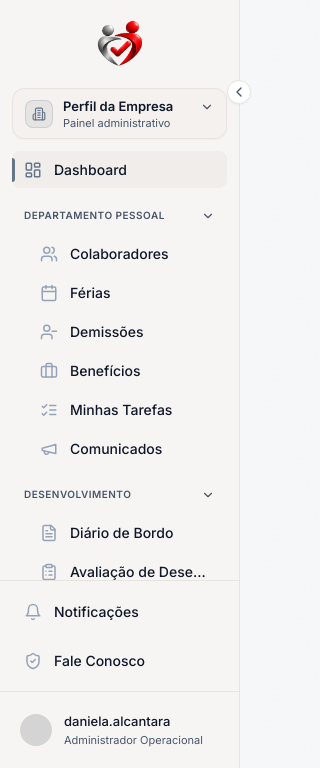
Test: Sidebar — Seletor de Perfil Ativo (Estilo Flash) › renderiza o seletor interativo para Administrador Operacional (analista_rh + colaborador)
This screenshot has width=320, height=768.
Later steps or results of the test are not shown.
expect the text with test id "active-profile-title" reads "Perfil da Empresa": met, box [63,98,173,114]
Press the mouse on the button with test id "profile-switcher-trigger" at (120, 114), box [12,88,227,139]
Click the button with test id "profile-switcher-trigger" at (120, 114), box [12,88,227,139]
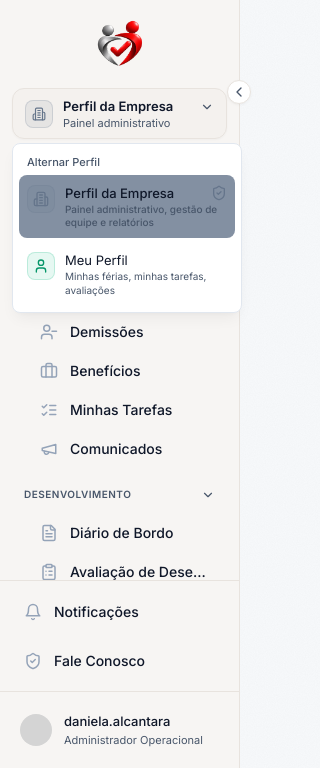
expect the menu item with test id "profile-option-pessoal" is shown: met, box [27,252,206,296]
